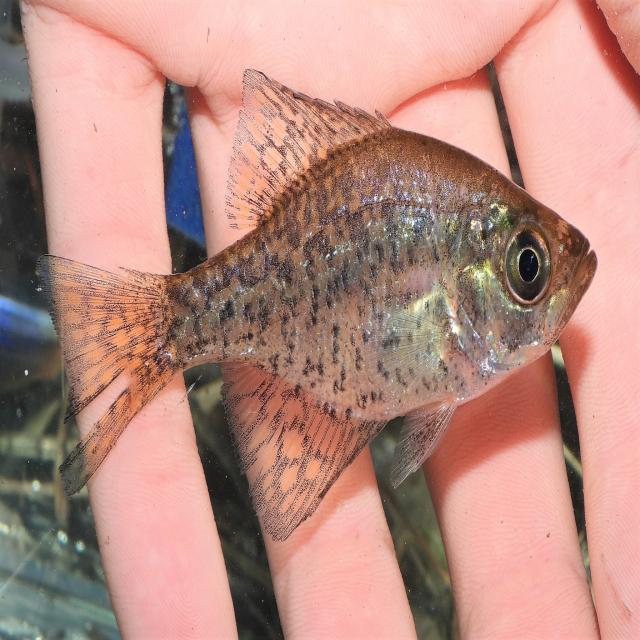Crappie - Black: (38, 71, 596, 540)
